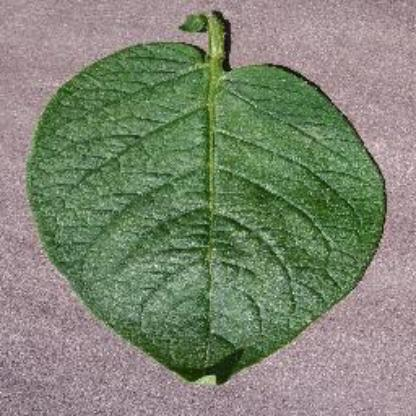Healthy-plant: (27, 11, 391, 392)
